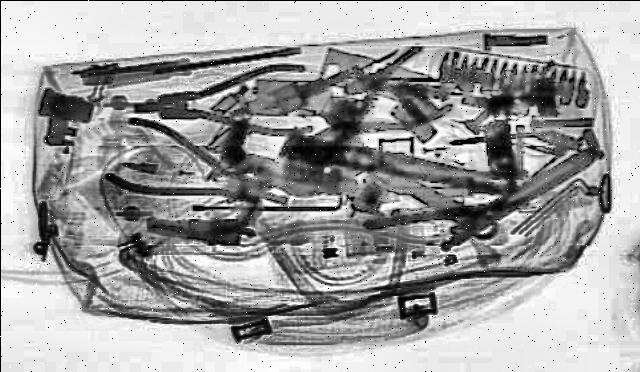Pliers: (73, 116, 324, 230), (294, 44, 500, 163), (128, 63, 320, 142)
Wrench: (284, 122, 516, 253)
